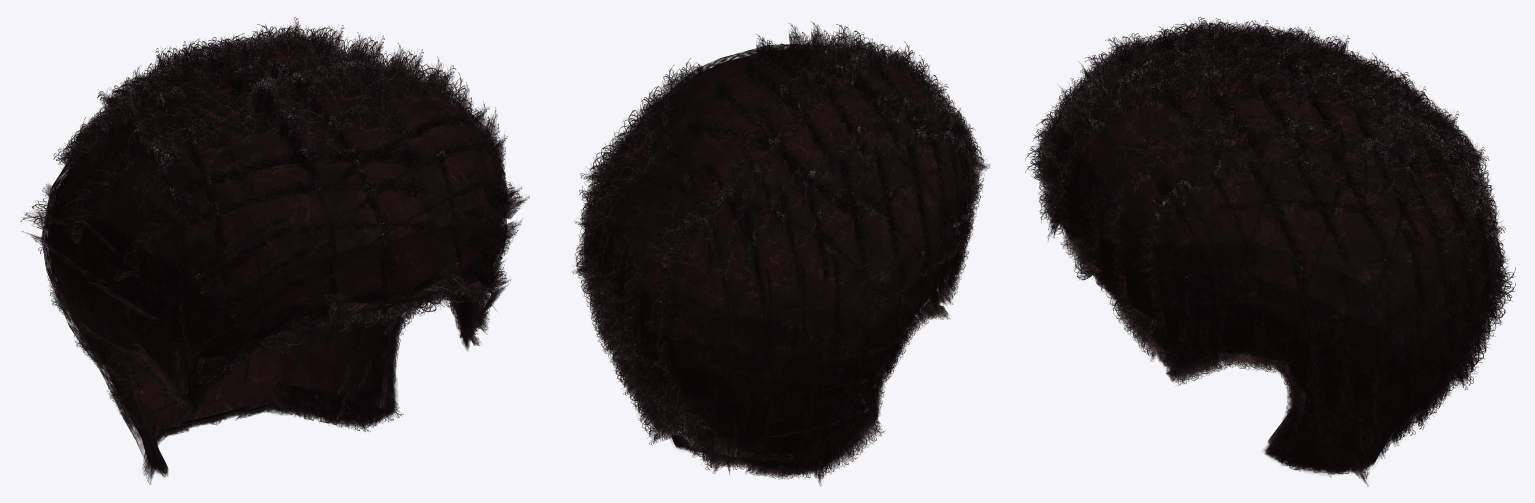
Rendered from afro01.glb.
The picture shows the model from 3 angles, left to right: view 1: azimuth 30°, elevation 25°; view 2: azimuth 150°, elevation 25°; view 3: azimuth 270°, elevation 25°; orthographic projection. The views are drawn at different scales.
Visible parts, largest first — view 1: MakeHuman_afro01; view 2: MakeHuman_afro01; view 3: MakeHuman_afro01.
Part boxes in pixels (bbox=[...]): MakeHuman_afro01: bbox=[20, 17, 529, 484]; MakeHuman_afro01: bbox=[572, 21, 990, 485]; MakeHuman_afro01: bbox=[1025, 17, 1515, 486].
Bounding box in the file's own units: 0.219 × 0.2256 × 0.2515.
1 material, 1 textured.
